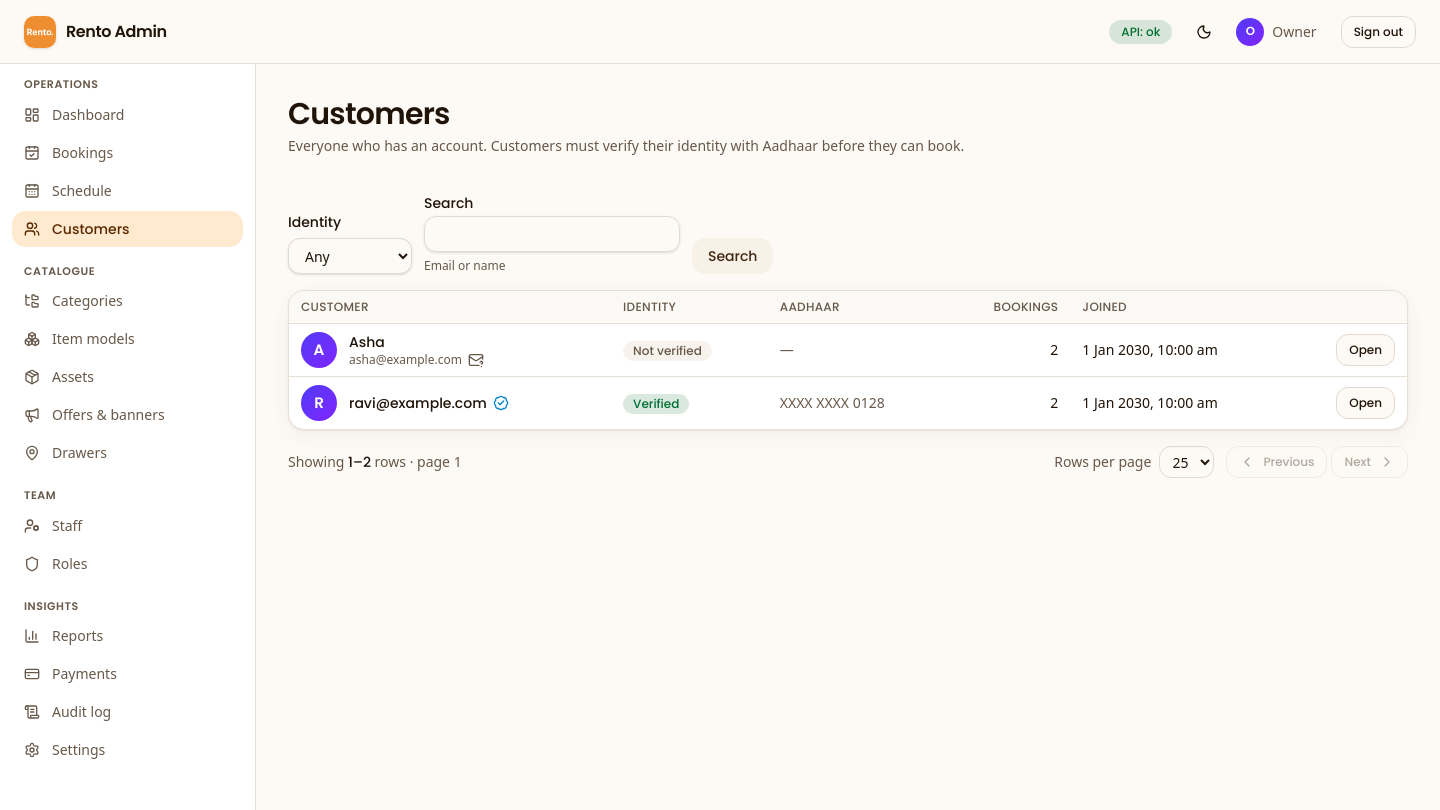
Test: customers › U-04 the detail shows the verification record and the booking counts
The width and height of the screenshot is (1440, 810).
What coordinates should you click on to do the following:
click the button with aria-label "Open asha@example.com"
I would click on:
 (1366, 350)
Its box is [1336, 334, 1395, 366].
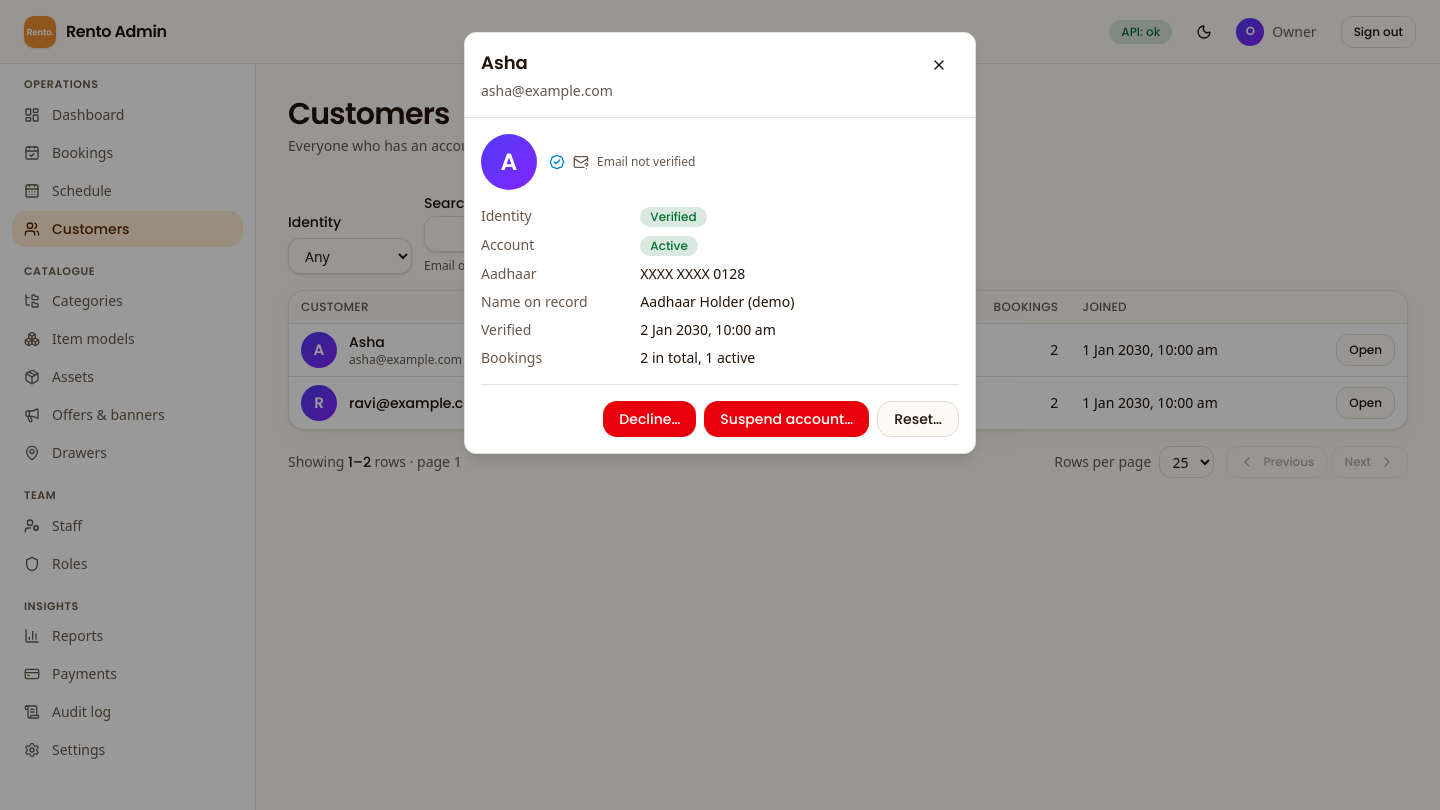
expect the text "Aadhaar Holder (demo)" is shown: met, box [640, 292, 794, 311]
expect the text "2 in total, 1 active" is shown: met, box [640, 348, 755, 367]
